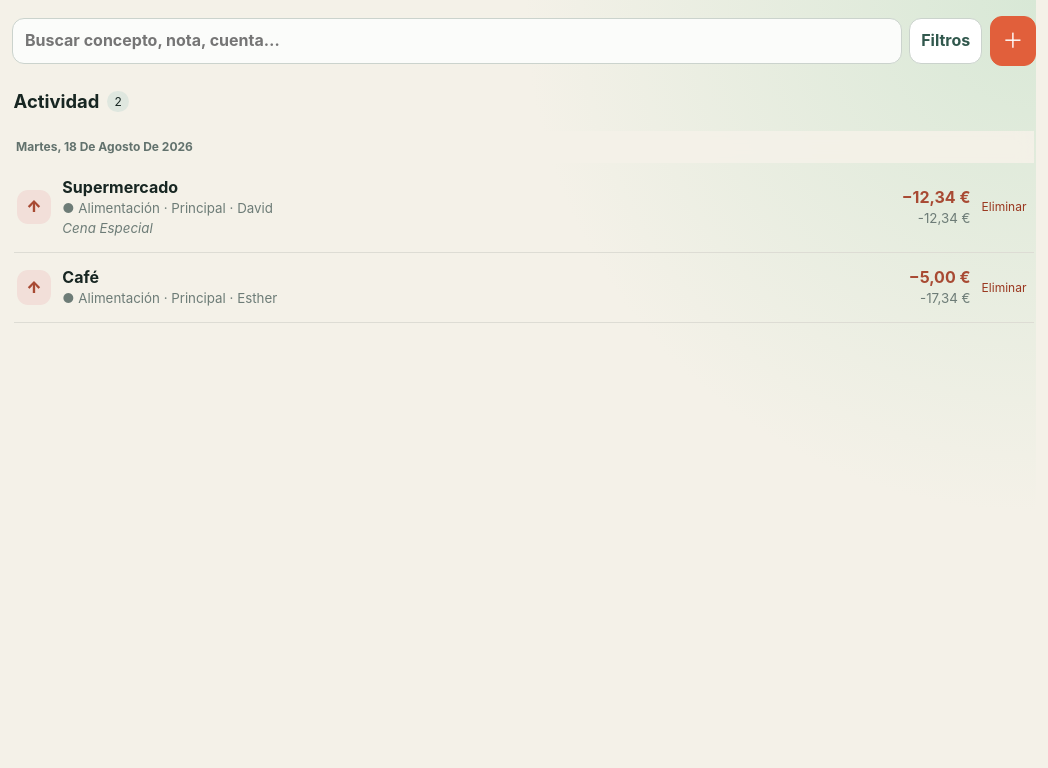
Phase 3 navigation and movements › searches notes and filters movements by member
Type "especial" into the search field at (457, 41), box [12,18,902,64]
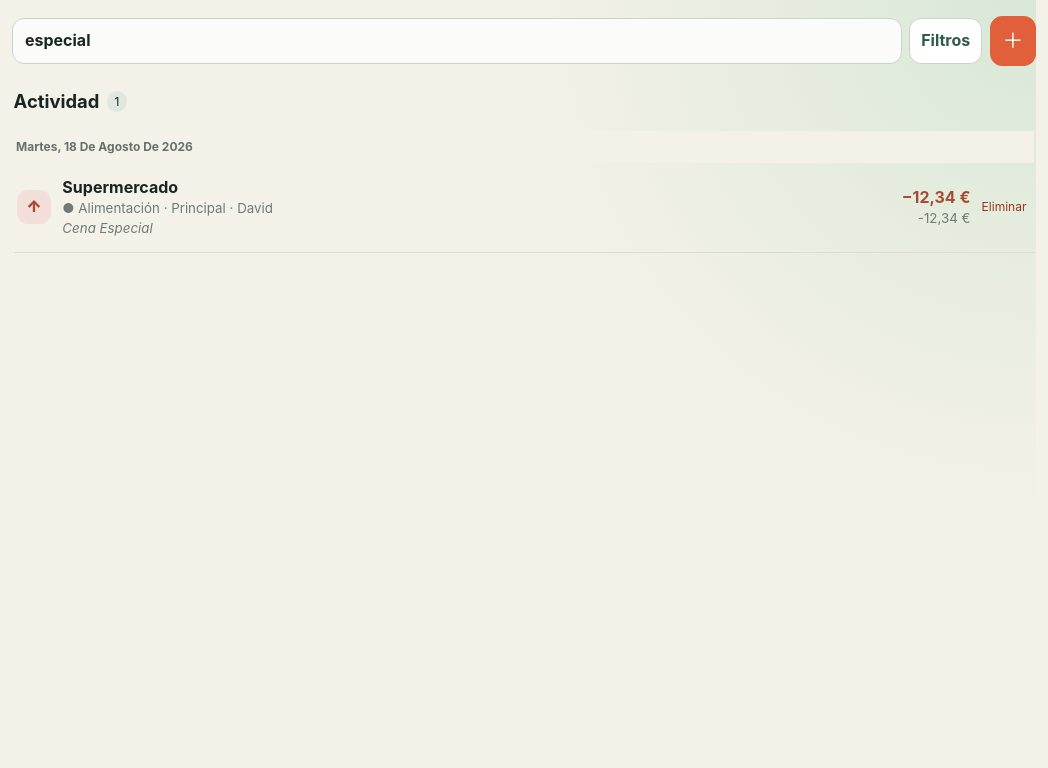
Expected: the text "Supermercado" is shown, [62,177,178,197]
Expected: the button "Café" is gone
Clear the search field at (457, 41), box [12,18,902,64]
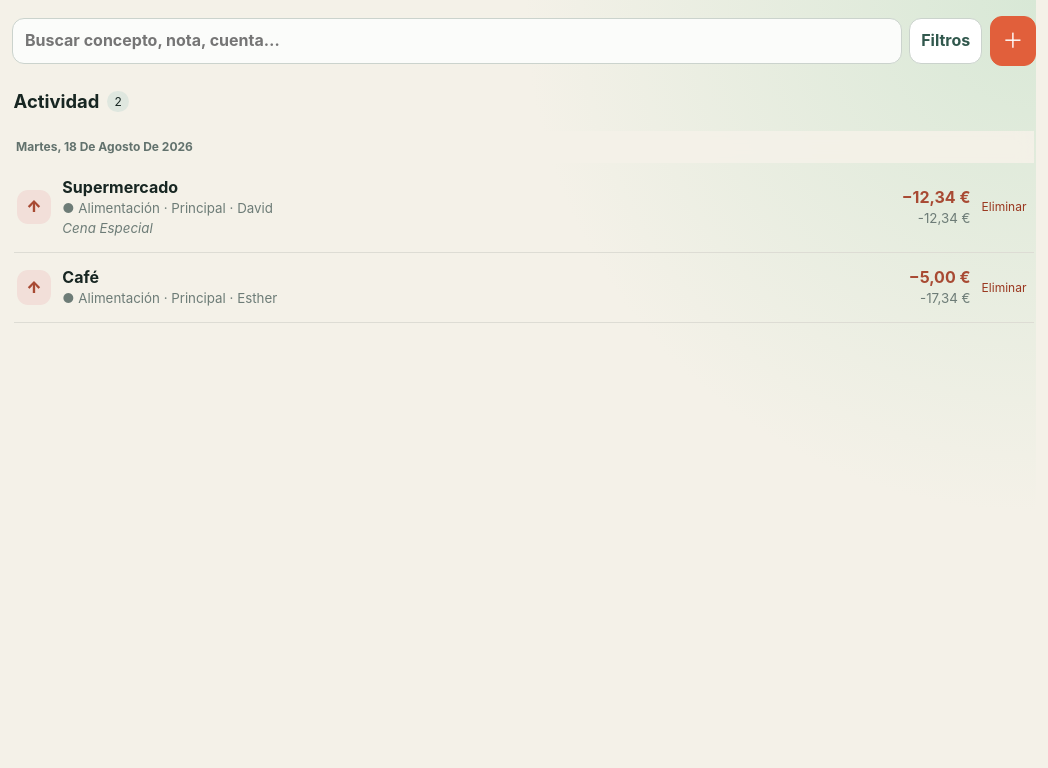
Click the button "Filtros" at (946, 41), box [909,18,982,64]
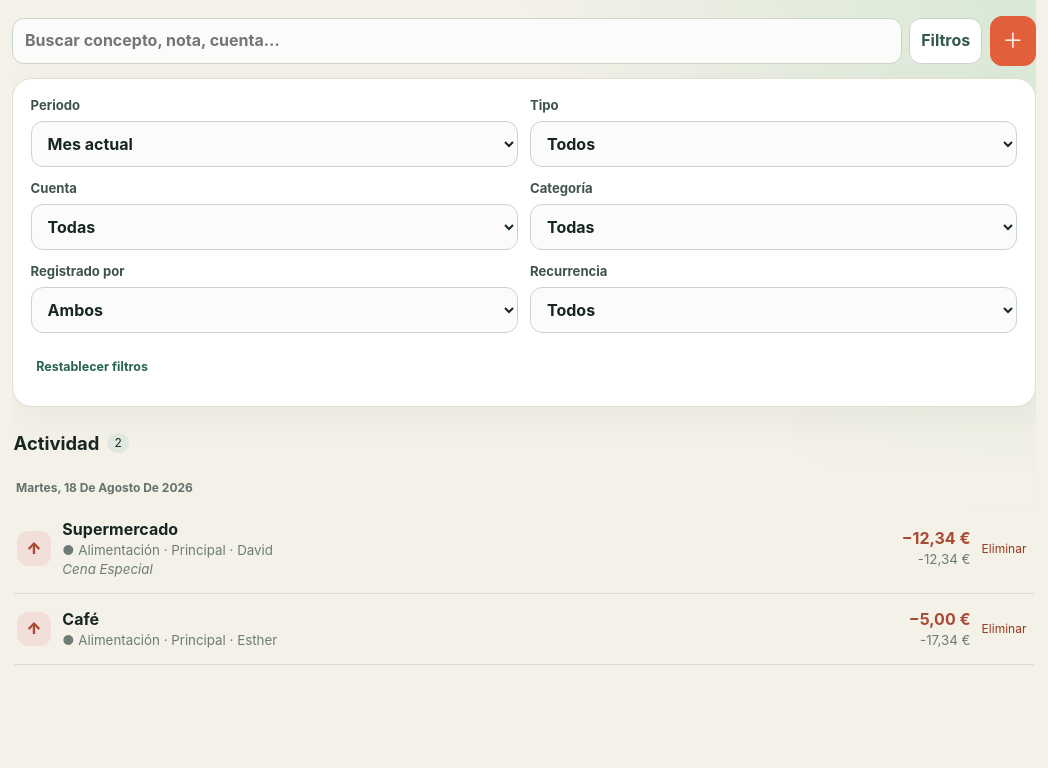
Select "Esther" in the dropdown labelled "Registrado por" at (274, 310), box [31,287,518,333]
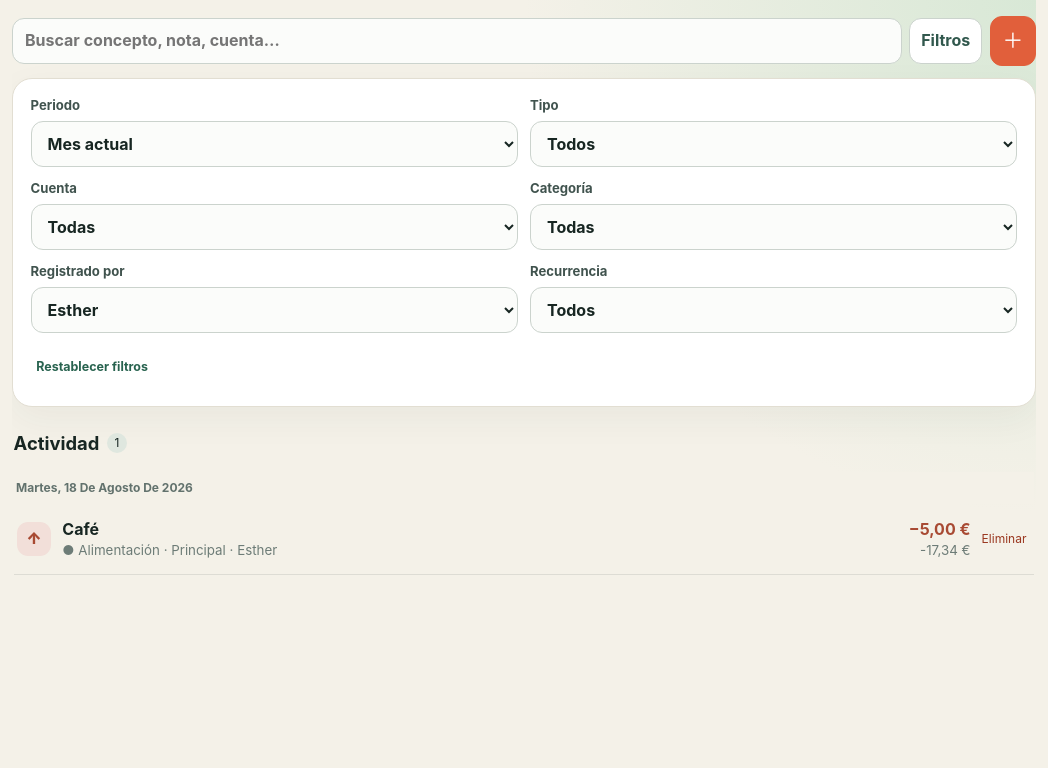
Expected: the text "Café" is shown, [62,519,99,539]
Expected: the button "Supermercado" is gone
